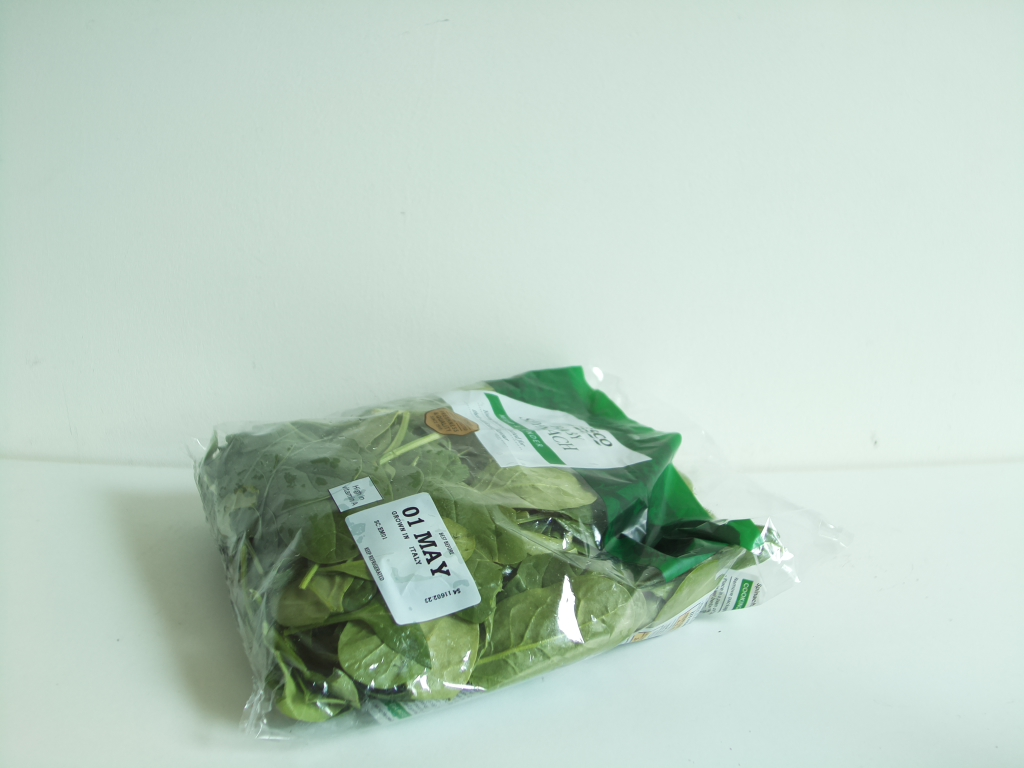salad: (201, 363, 819, 740)
